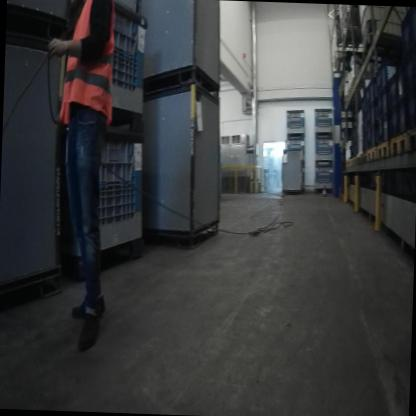pallet: (389, 131, 408, 157), (376, 140, 390, 163), (405, 125, 416, 154), (365, 144, 378, 166)
small_load_carrier: (402, 51, 416, 98), (400, 15, 414, 61), (402, 86, 416, 126), (380, 59, 397, 90), (377, 85, 391, 120), (374, 64, 385, 103), (388, 107, 402, 136), (397, 60, 406, 105), (368, 120, 379, 155), (390, 73, 399, 112), (367, 102, 381, 126), (368, 74, 379, 103), (381, 116, 393, 141), (361, 88, 371, 118), (410, 38, 416, 85), (360, 114, 371, 136), (410, 10, 416, 45), (361, 133, 370, 153)
